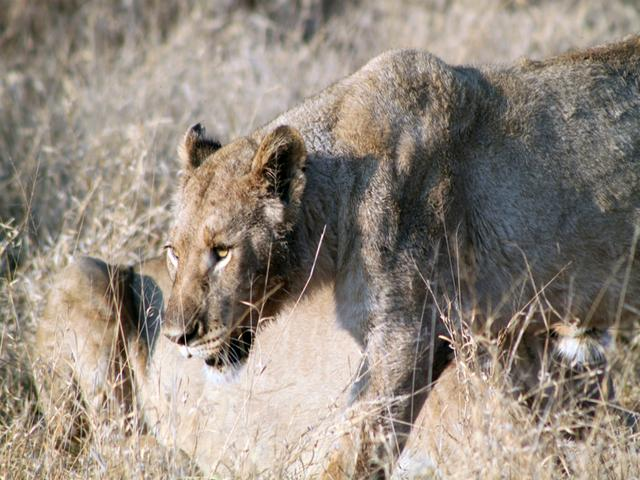lion: (76, 58, 595, 387)
